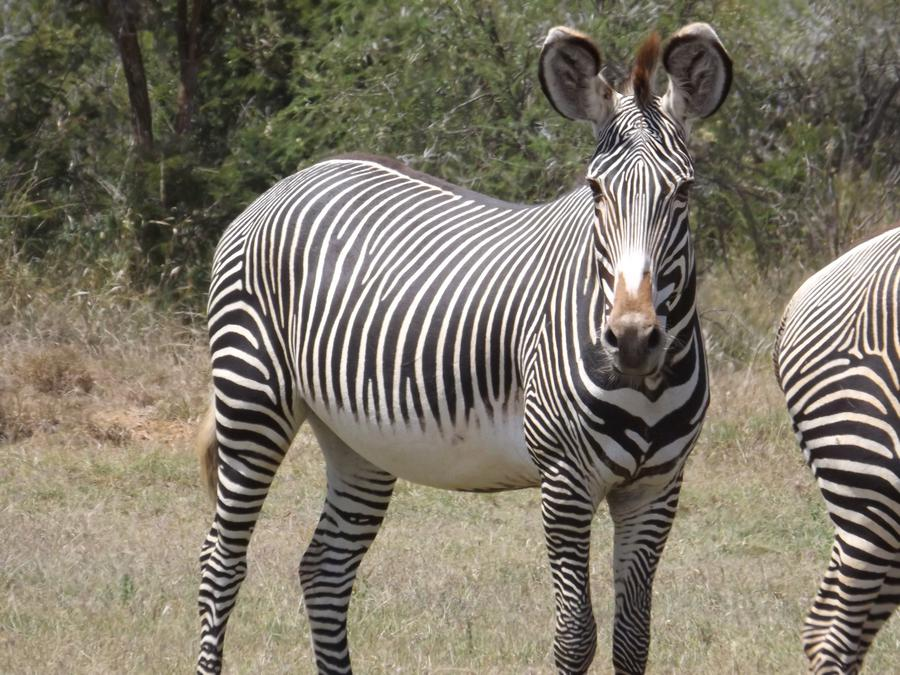zebra_grevys: (209, 116, 623, 486)
